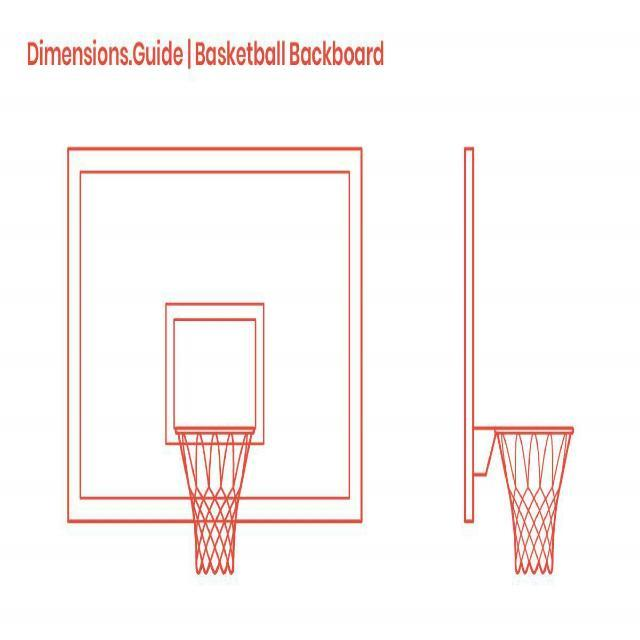hoop: (494, 426, 574, 574), (176, 428, 253, 576)
